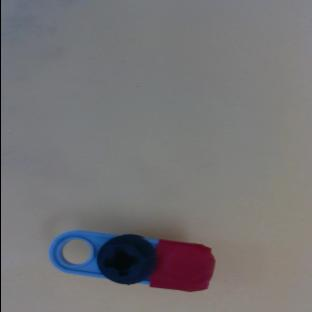part_1_good: (46, 224, 217, 297)
